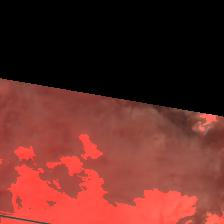landslides: (25, 104, 52, 133), (135, 146, 154, 161), (34, 124, 48, 139), (94, 148, 108, 163), (148, 106, 161, 118), (92, 145, 103, 159), (89, 215, 103, 224), (185, 146, 198, 155)
